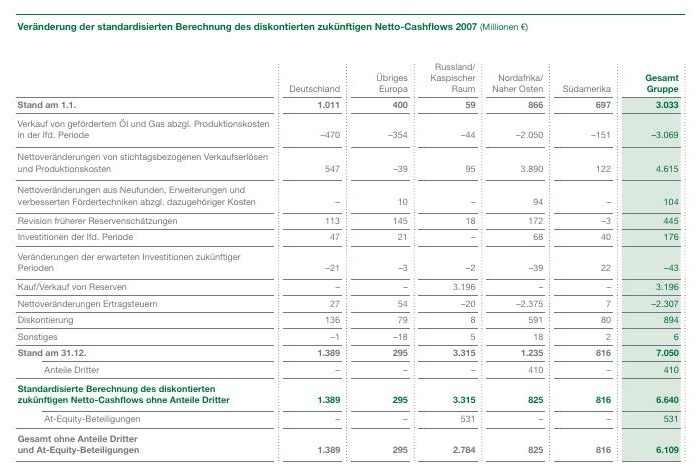table: (0, 0, 699, 473)
